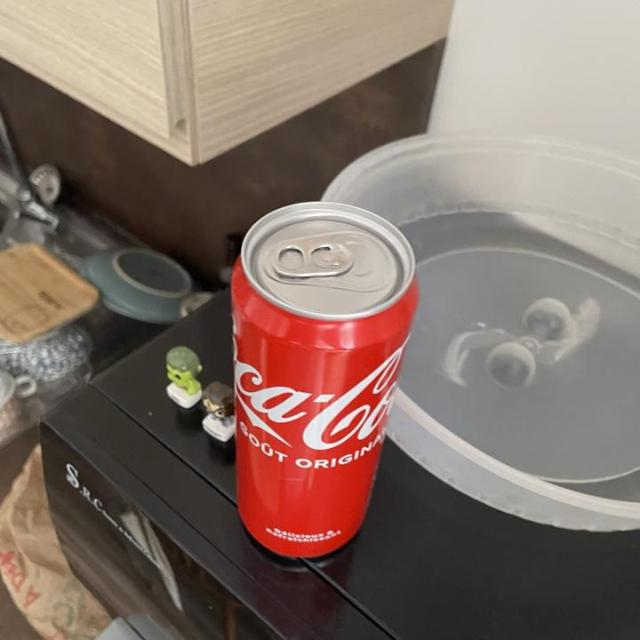can: (232, 198, 424, 578)
